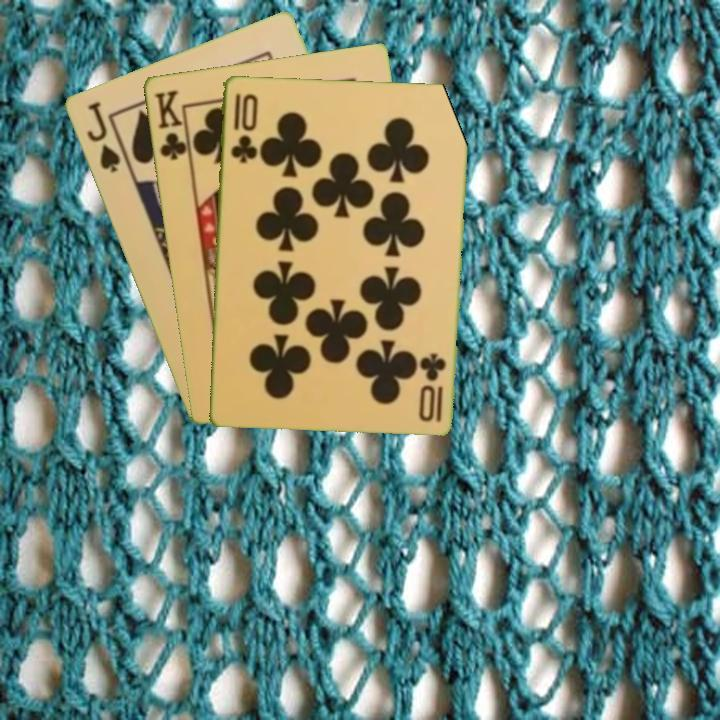10c: (227, 89, 259, 166), (418, 349, 448, 425)
Js: (82, 97, 123, 176)
Kc: (150, 86, 192, 166)
